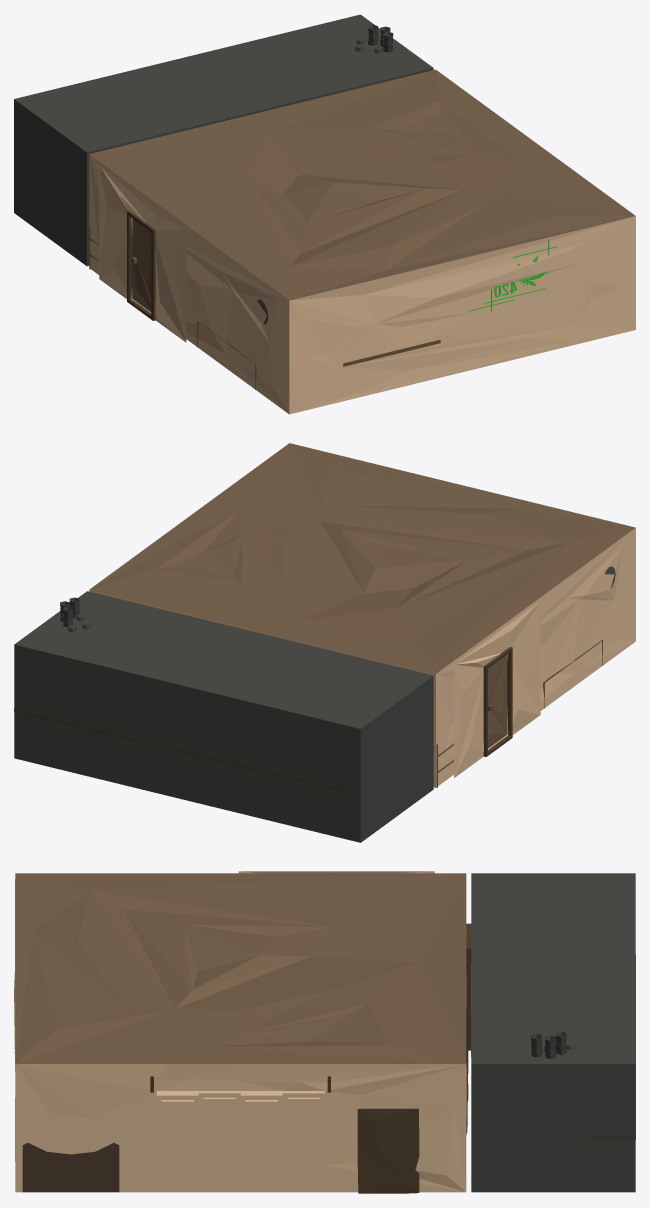
3 views of the same model, one above another, from view 1: azimuth 30°, elevation 25°; view 2: azimuth 150°, elevation 25°; view 3: azimuth 270°, elevation 25° (orthographic). The views are drawn at different scales.
Parts seen in each view (by area): view 1: polySurface14, polySurface13, test_polySurface7, test_polySurface4, polySurface10, polySurface8; view 2: polySurface14, test_polySurface4, test_polySurface7, polySurface13, polySurface10, polySurface8; view 3: polySurface14, polySurface13, test_polySurface7, test_polySurface4, test_pCube2, test_pCube27, test_pCube53.
Boxes of the visible parts, box(x1,y1,x2,y2) form: polySurface14: box(89, 69, 635, 300); polySurface13: box(89, 154, 635, 414); test_polySurface7: box(14, 14, 433, 152); test_polySurface4: box(14, 68, 433, 266); polySurface10: box(131, 218, 151, 311); polySurface8: box(127, 210, 155, 320); polySurface14: box(89, 443, 635, 673); test_polySurface4: box(14, 644, 433, 842); test_polySurface7: box(14, 591, 433, 728); polySurface13: box(89, 528, 635, 787); polySurface10: box(488, 655, 507, 748); polySurface8: box(483, 647, 512, 756); polySurface14: box(15, 873, 466, 1063); polySurface13: box(14, 871, 466, 1192); test_polySurface7: box(471, 873, 635, 1063); test_polySurface4: box(471, 1064, 635, 1192); test_pCube2: box(357, 1108, 419, 1193); test_pCube27: box(22, 1142, 119, 1192); test_pCube53: box(466, 923, 471, 1050).
Size of the model in its own units: 10.06 by 3.55 by 13.18.
Materials: 1 (1 with a texture image).
